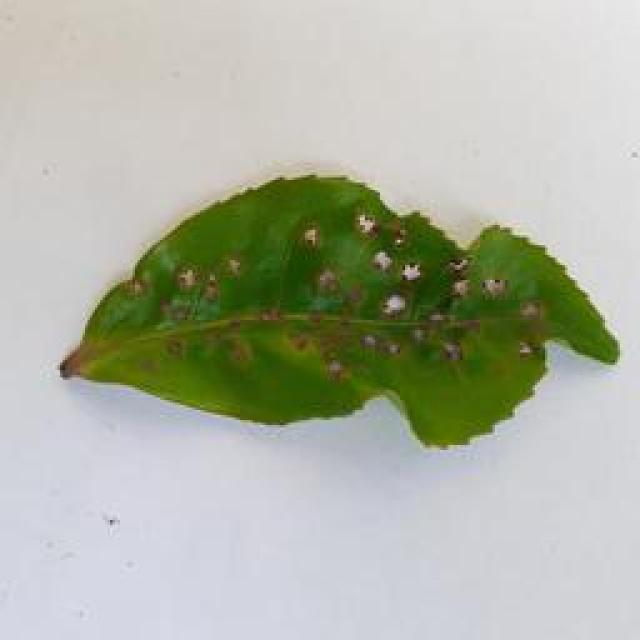Helopeltis: (48, 168, 618, 455)
